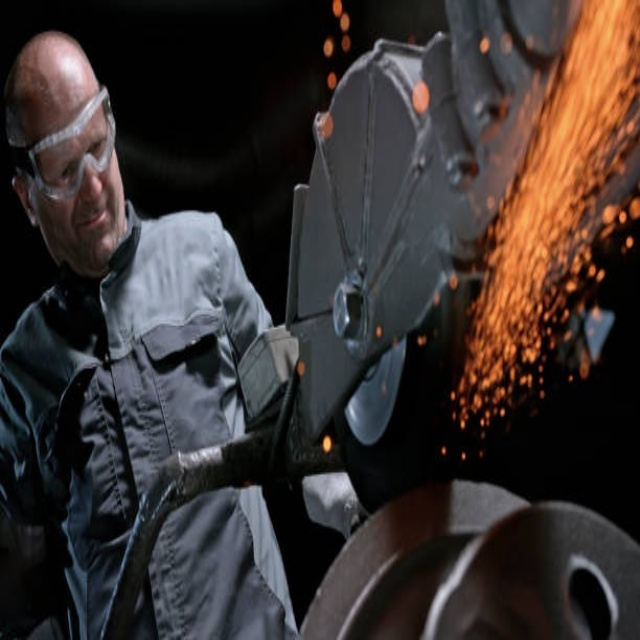Gafas: (10, 86, 116, 201)
Sin_mascara: (69, 190, 121, 247)
